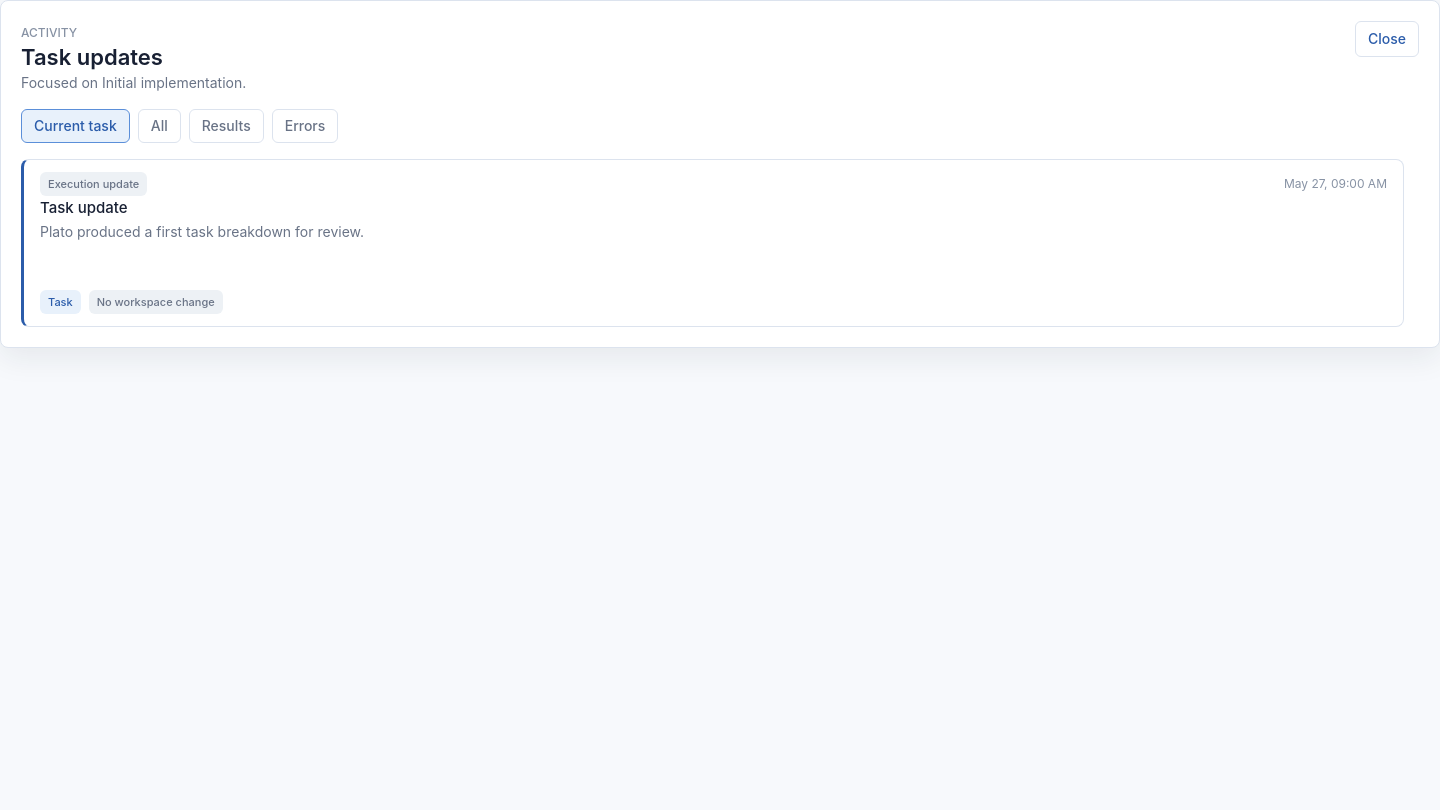
Test: ActivityOverlay › opens on the current task filter and can switch to all activity
Expected: the heading "Task updates" is shown, [21,44,163,70]
Expected: the text "Task update" is shown, [40,198,128,217]
Click the button "All" at [159, 126], box [138,108,181,143]
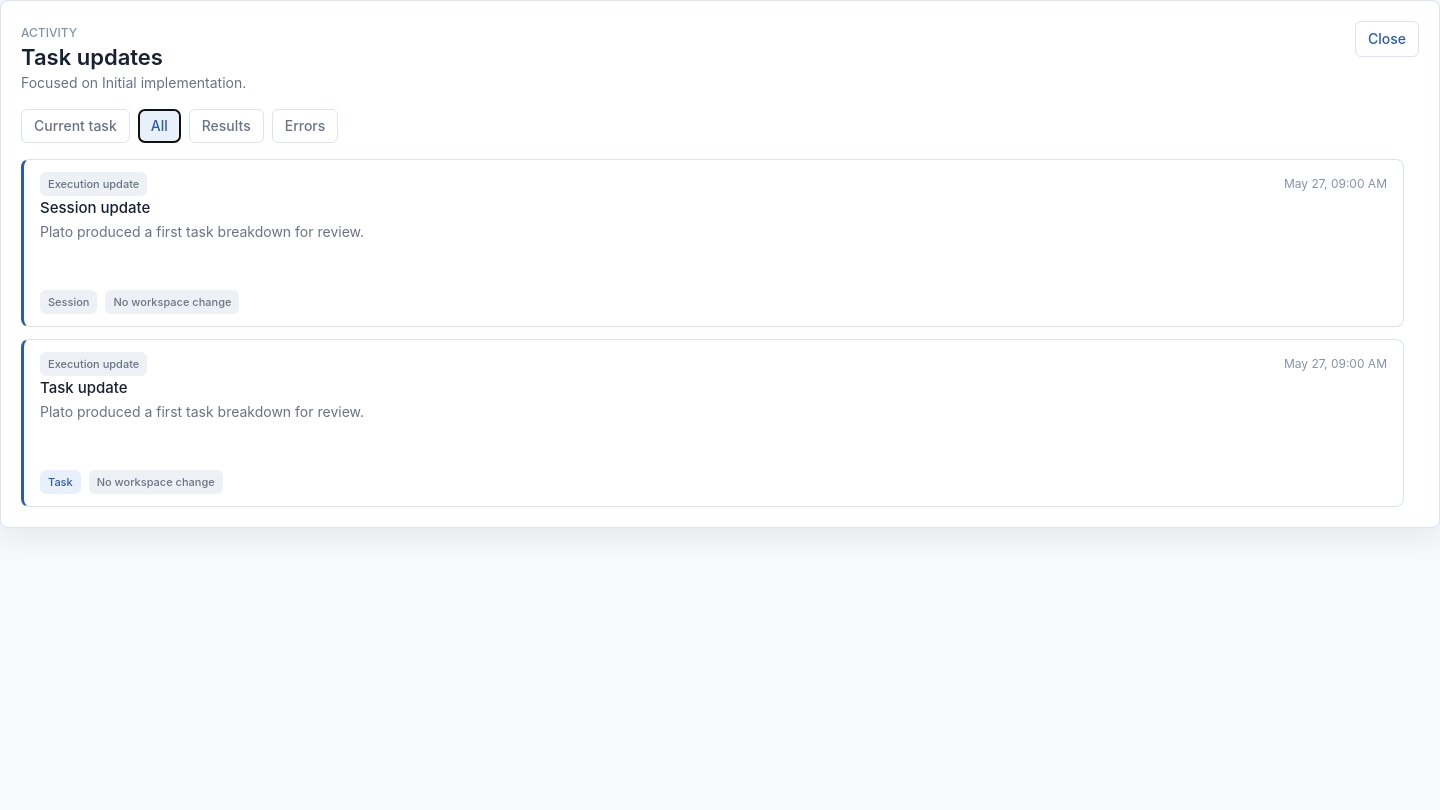
Now the text "Session update" is shown, box [40,198,150,217]
